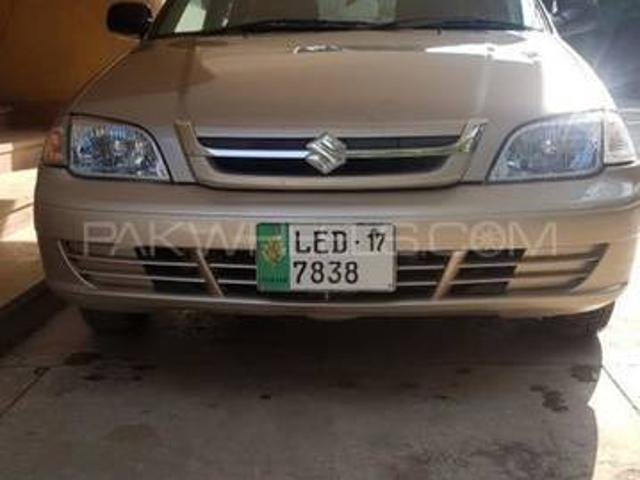plate: (253, 219, 401, 297)
